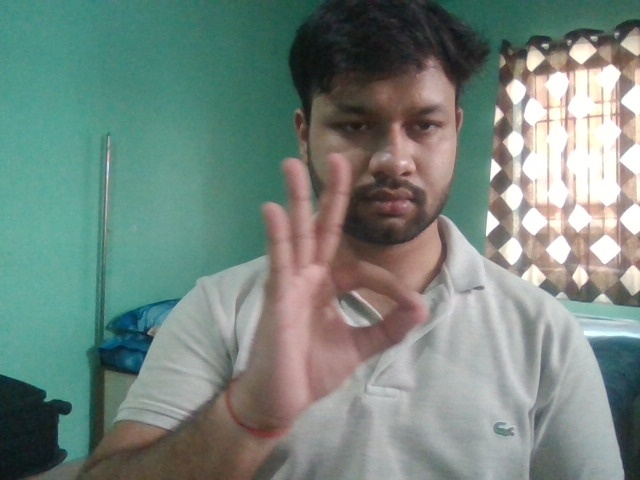Ok: (253, 151, 432, 418)
